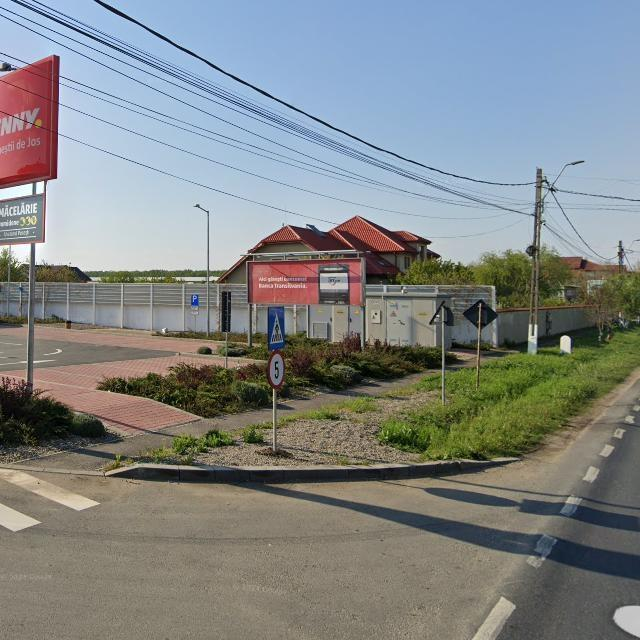info_crosswalk: (268, 307, 286, 351)
